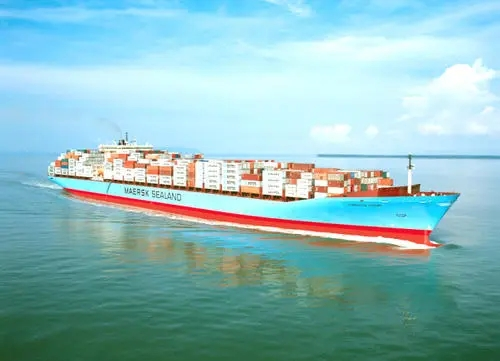Cargoship: (44, 129, 463, 251)
